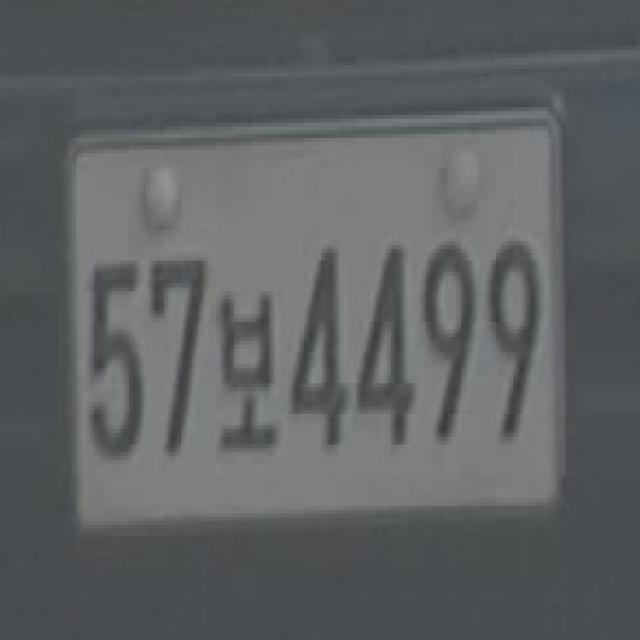4: (288, 229, 354, 456), (356, 233, 420, 456)
5: (84, 238, 148, 460)
7: (152, 239, 210, 461)
9: (484, 225, 544, 450), (423, 224, 478, 447)
bo: (220, 243, 282, 464)
license_plate: (56, 110, 569, 528)
